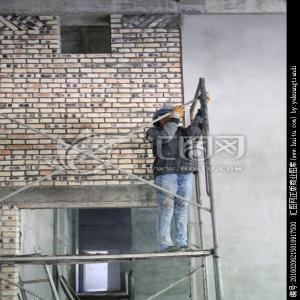blue: (150, 109, 177, 128)
